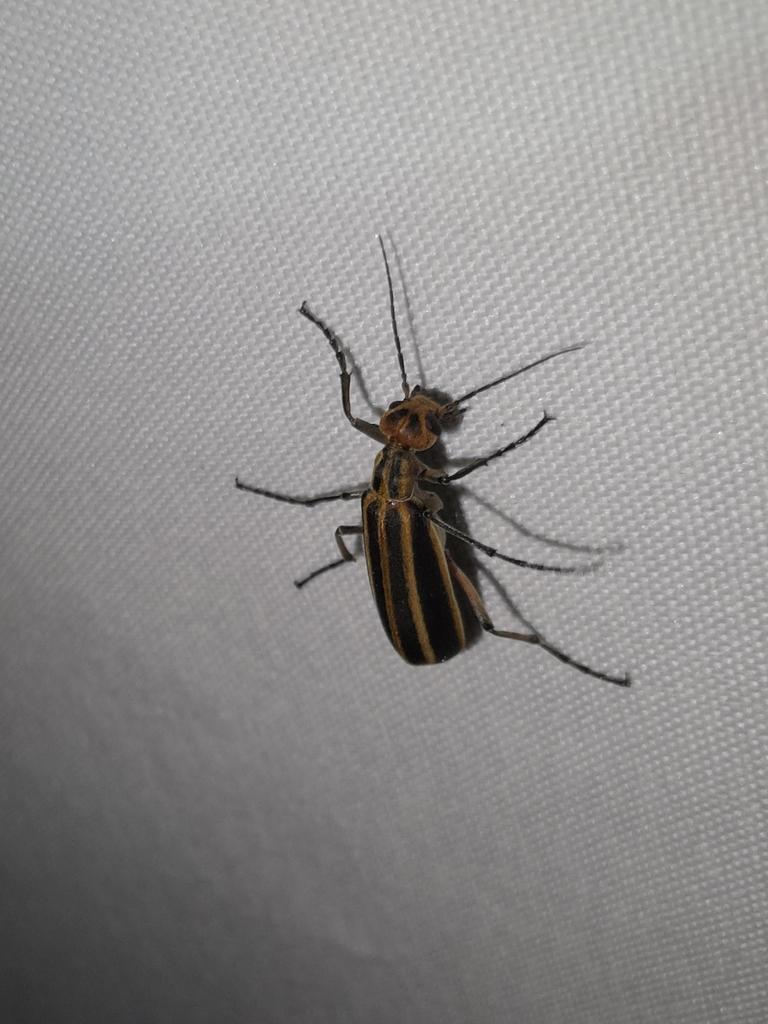blister_beetle: (186, 199, 658, 771)
